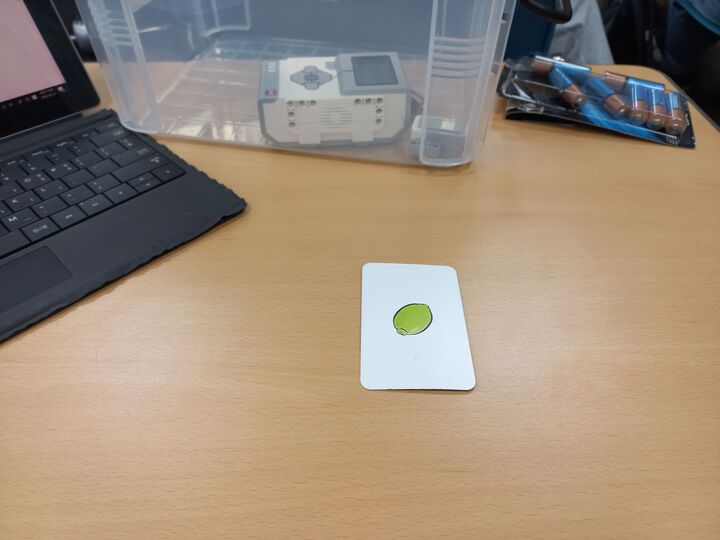lime1: (358, 260, 477, 394)
